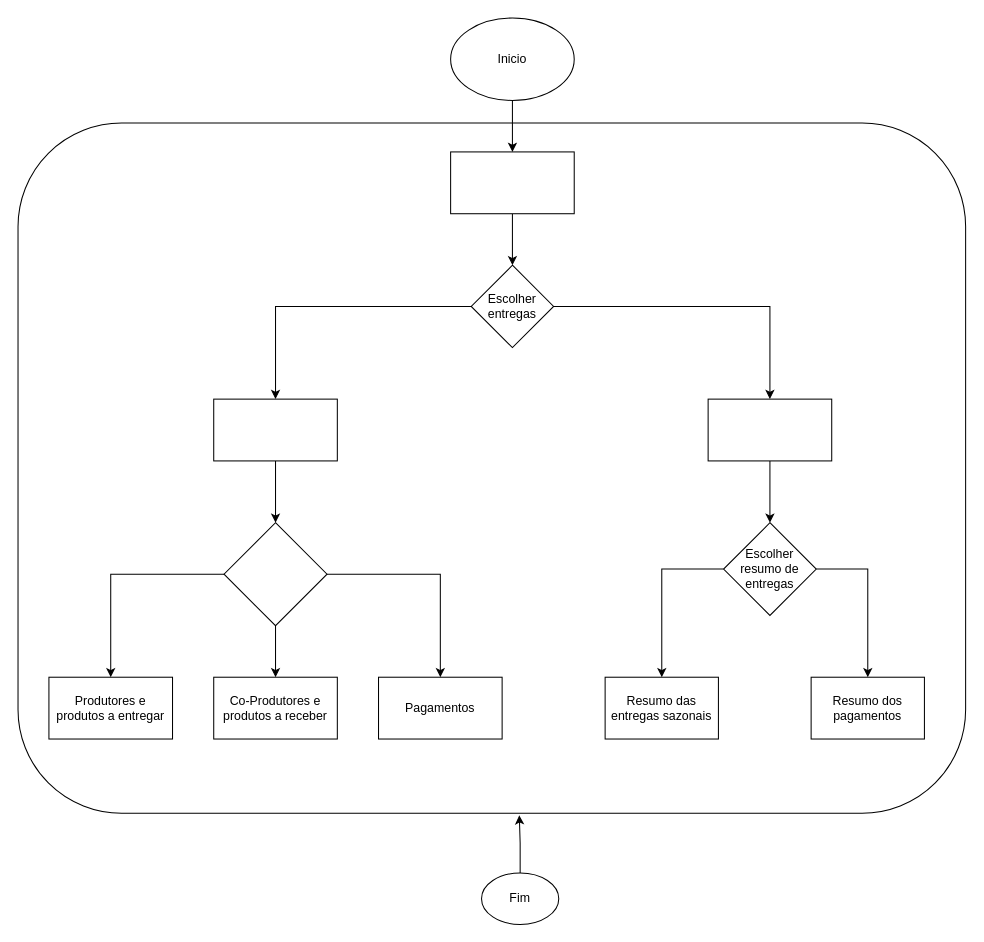
Image size: 984x942. Some labels were removed from this diagram. The box of each missing label's shape, as (x1, y1, x2, y2) in pixels:
Entregas: (450, 151, 574, 214)
Entregas período sazonal: (707, 398, 832, 461)
Escolher informação entrega: (223, 522, 327, 626)
Próxima Entrega: (213, 398, 337, 461)
